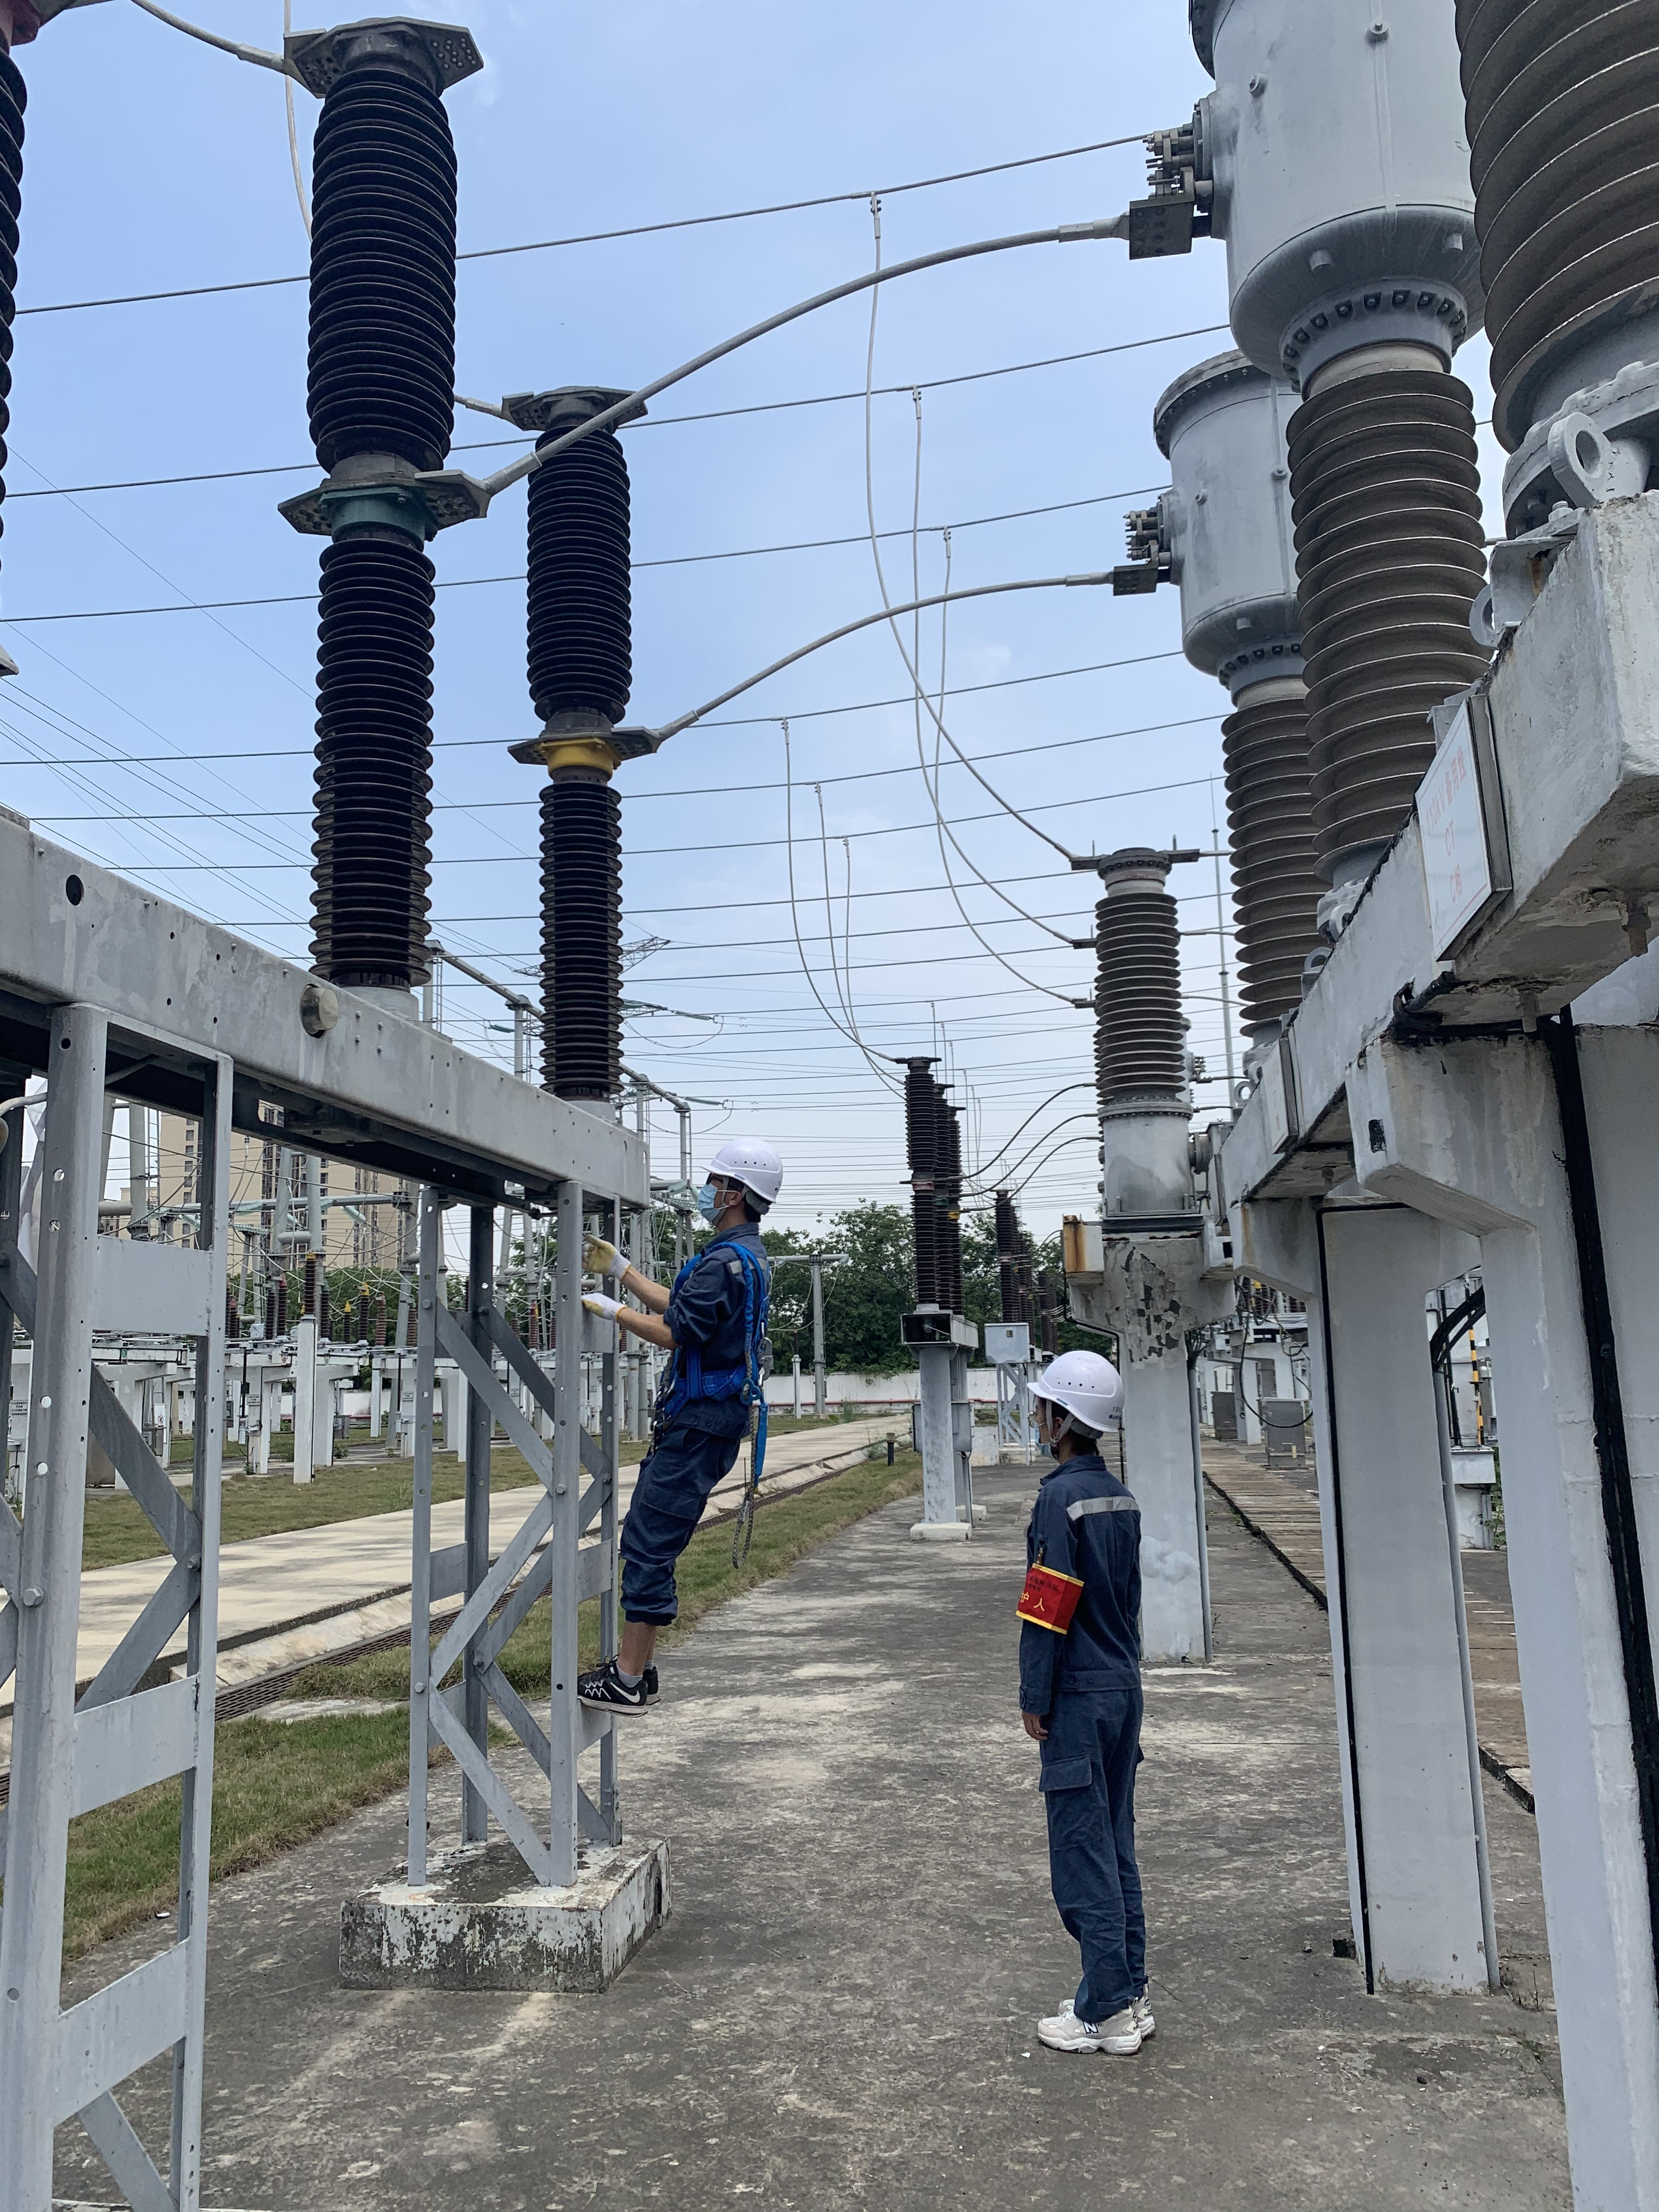downsuit: (999, 1698, 1188, 2033), (594, 1390, 767, 1662)
upsuit: (986, 1453, 1171, 1723), (648, 1235, 779, 1432)
wrongbottom: (605, 1601, 678, 1691)
wrongtop: (580, 1231, 676, 1353)
